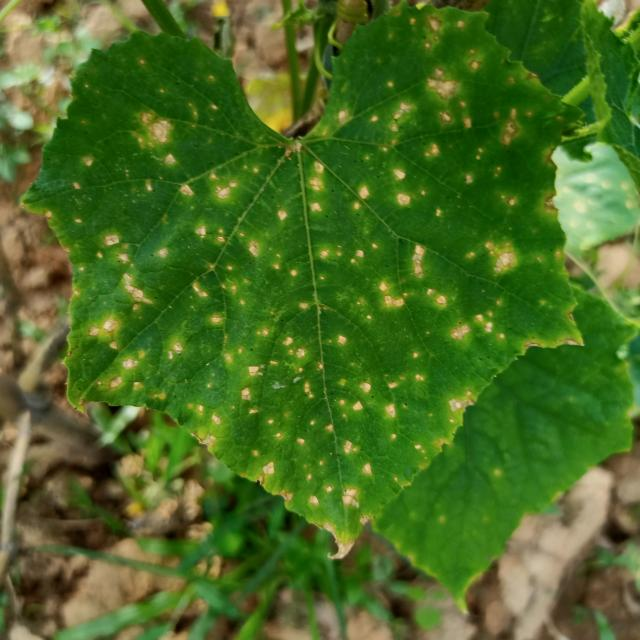disease_cucumber: (162, 230, 526, 514), (66, 97, 362, 377), (304, 26, 552, 320)
